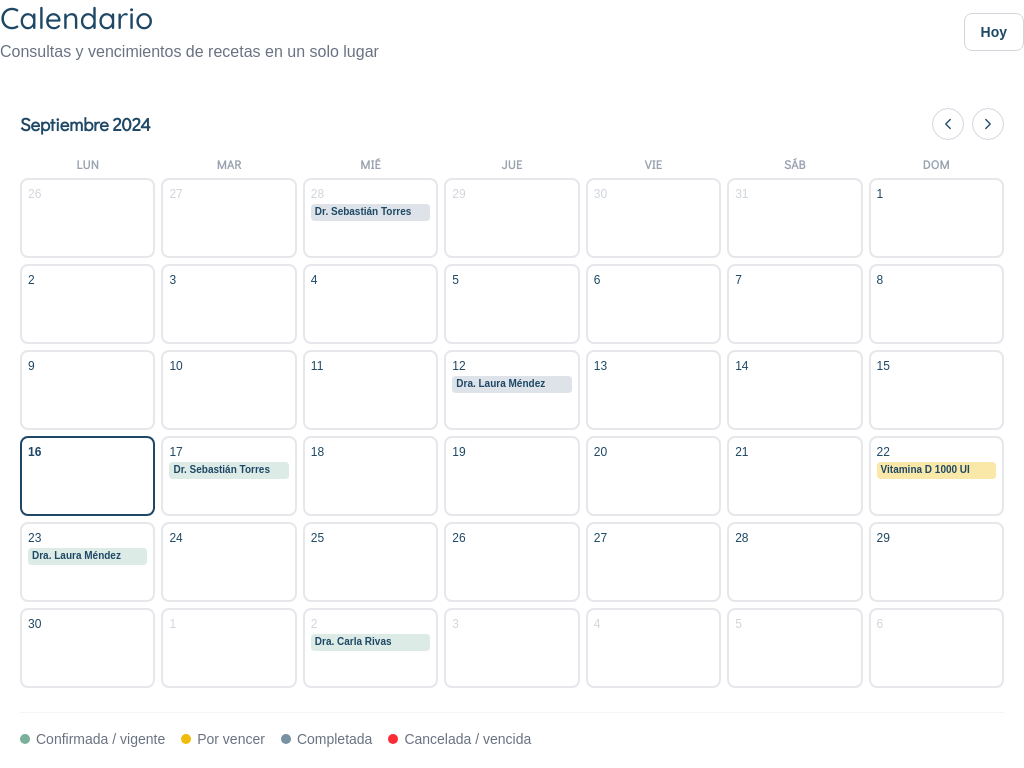
Test case: CalendarioPage › clicking a day with no events shows the empty state in the modal
Click the button "16" at (88, 476), box [20,436,155,516]
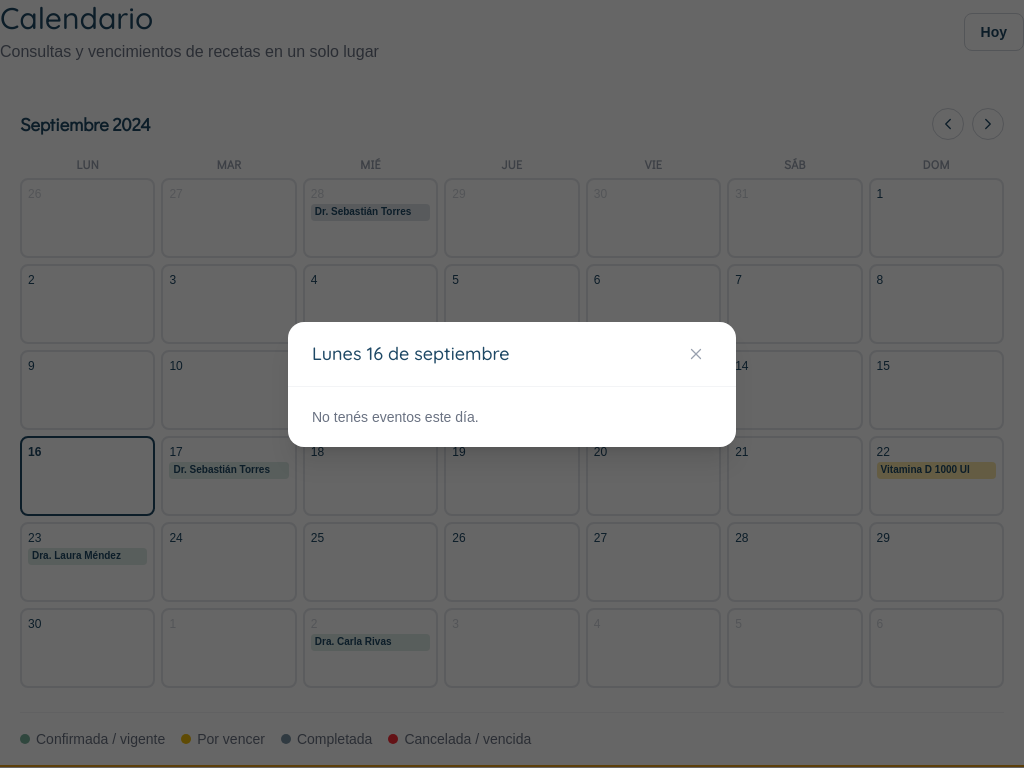
Expected: the text "No tenés eventos este día." is shown, [312,408,479,424]
